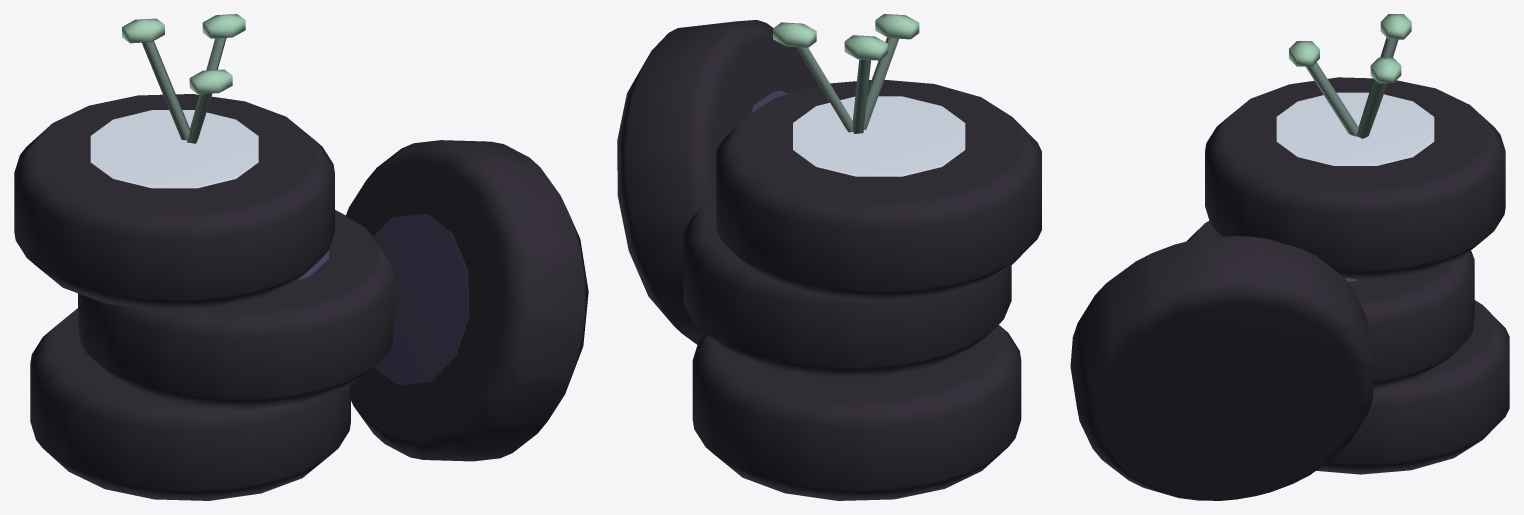
The model's file is tire_pile.glb.
3 views of the same model, side by side, from view 1: azimuth 30°, elevation 25°; view 2: azimuth 150°, elevation 25°; view 3: azimuth 270°, elevation 25° (orthographic). The views are drawn at different scales.
Visible parts, largest first — view 1: Tyres; view 2: Tyres; view 3: Tyres.
Part boxes in pixels (x1,y1,x2,y2): Tyres: [14, 14, 588, 500]; Tyres: [617, 14, 1041, 500]; Tyres: [1070, 14, 1509, 500].
Bounding box in the file's own units: 0.92 × 0.841 × 0.8609.
